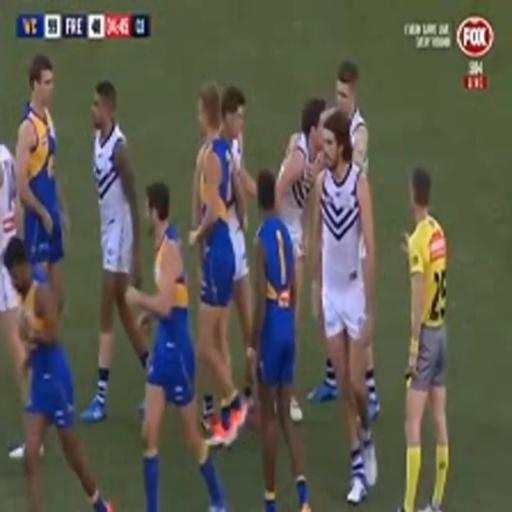nao-violencia: (257, 56, 383, 258), (174, 53, 277, 284)
